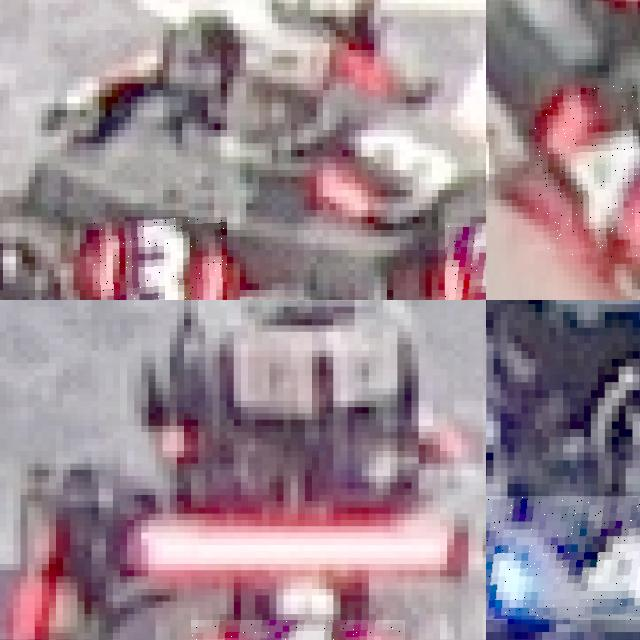R3: (92, 216, 227, 300), (444, 223, 486, 300)
R4: (486, 495, 640, 620), (535, 84, 640, 257)
